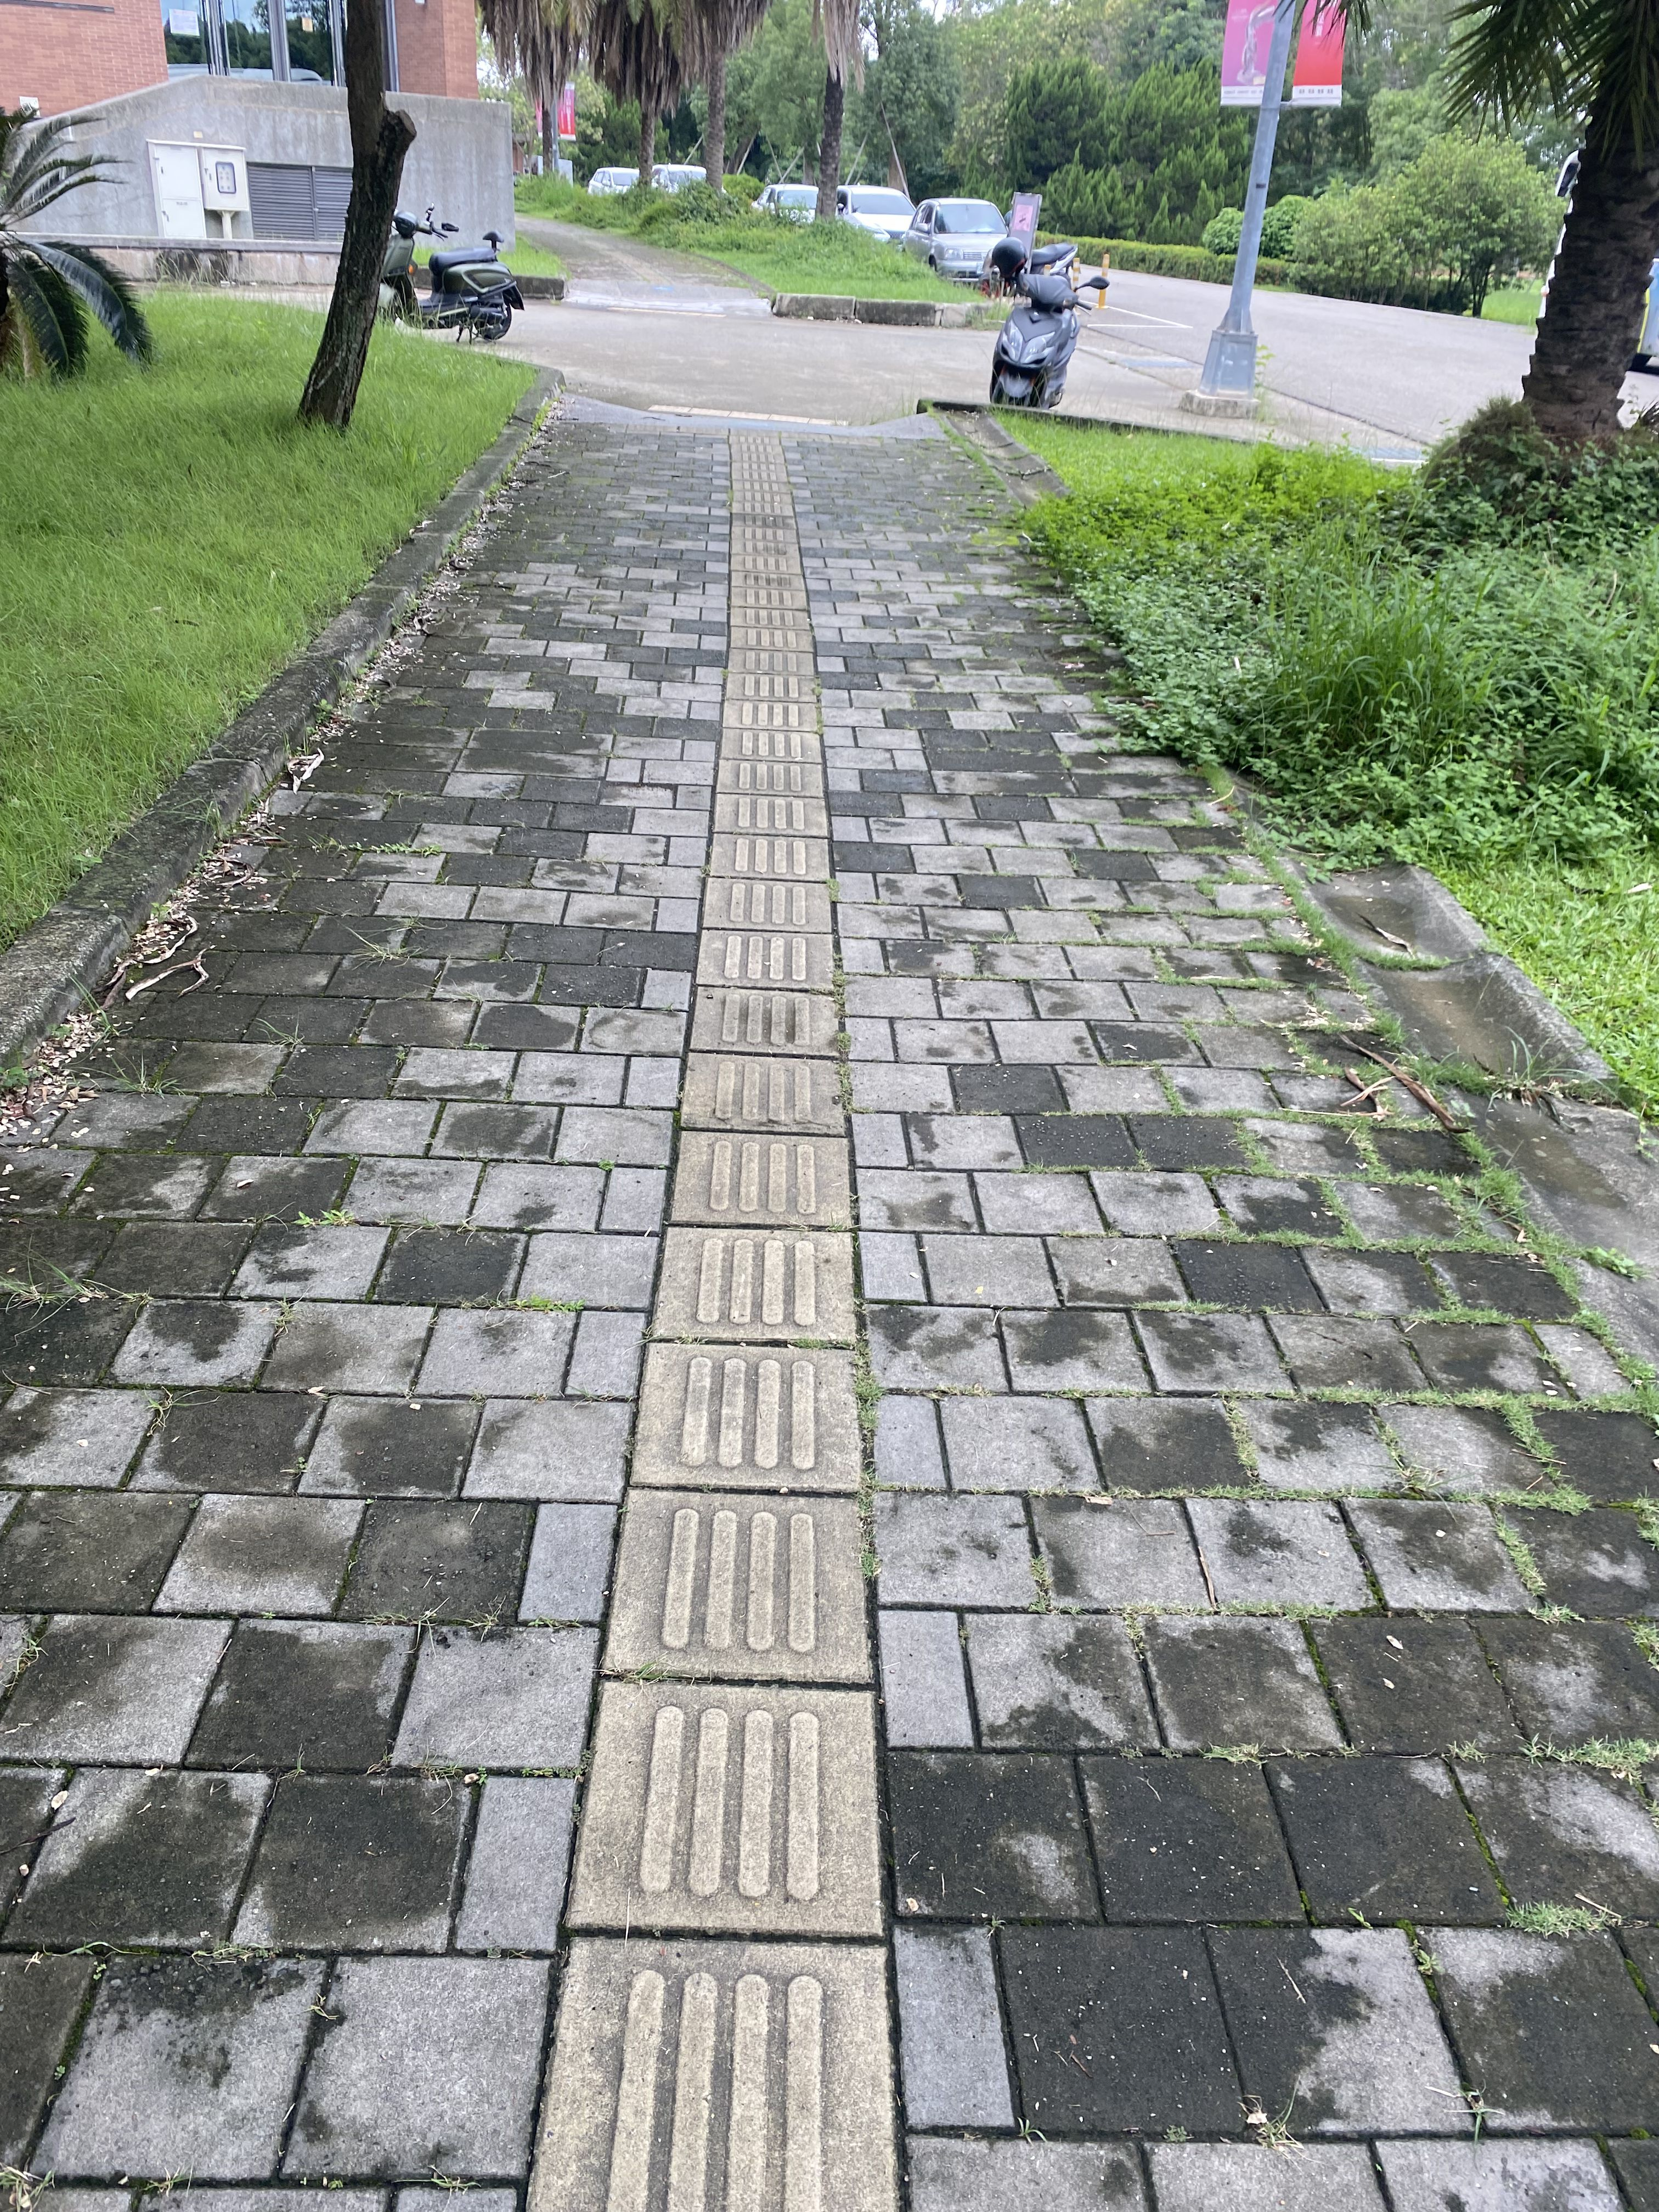sidewalk: (3, 408, 1659, 2212)
